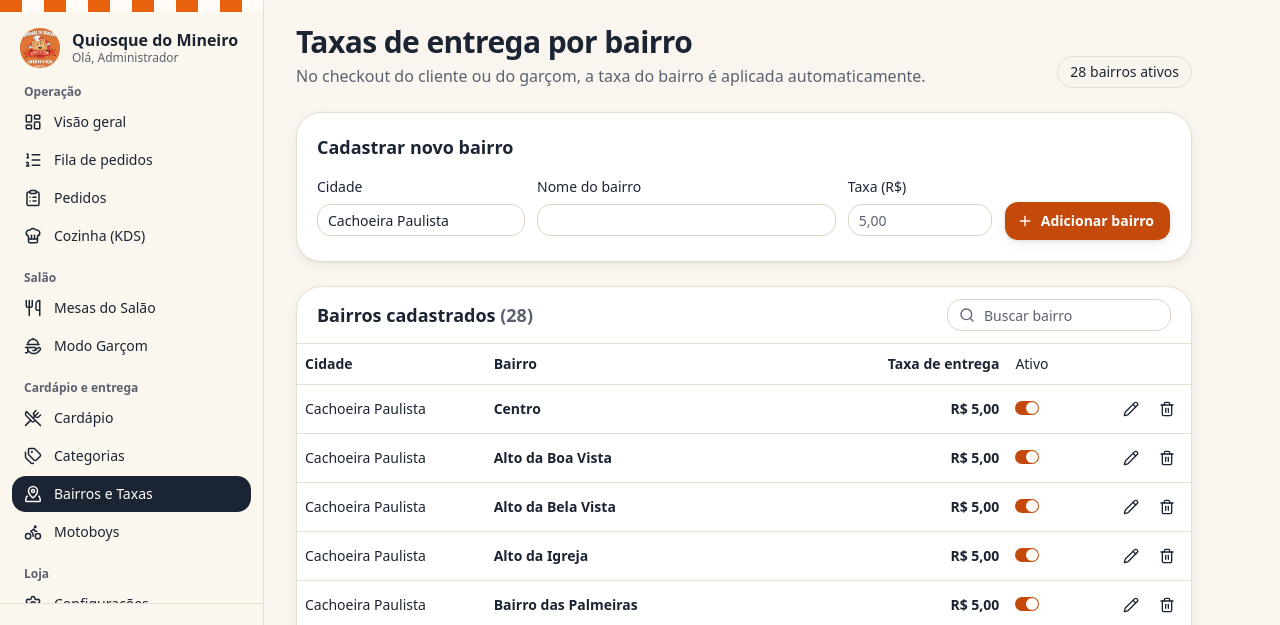
it: Bairros › mostra o erro de taxa inválida
In the field labelled "Nome do bairro": (686, 220) [537,204,836,236], type "Centro Novo"
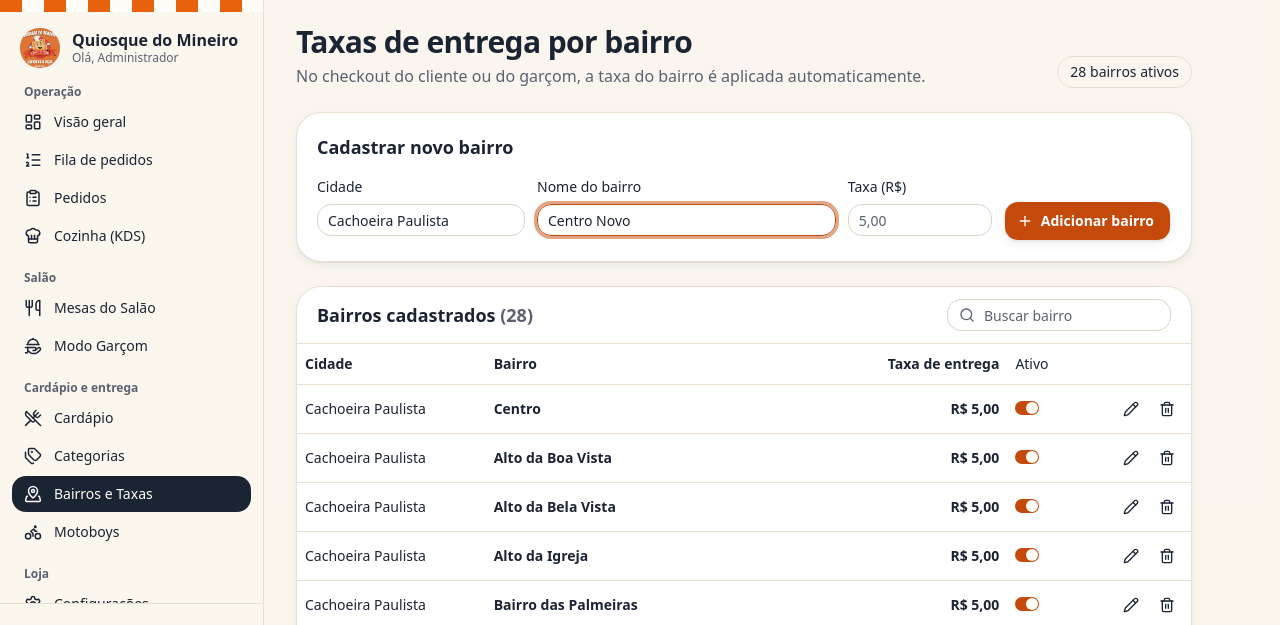
In the field labelled "Taxa (R$)": (920, 220) [848,204,992,236], type "xx"
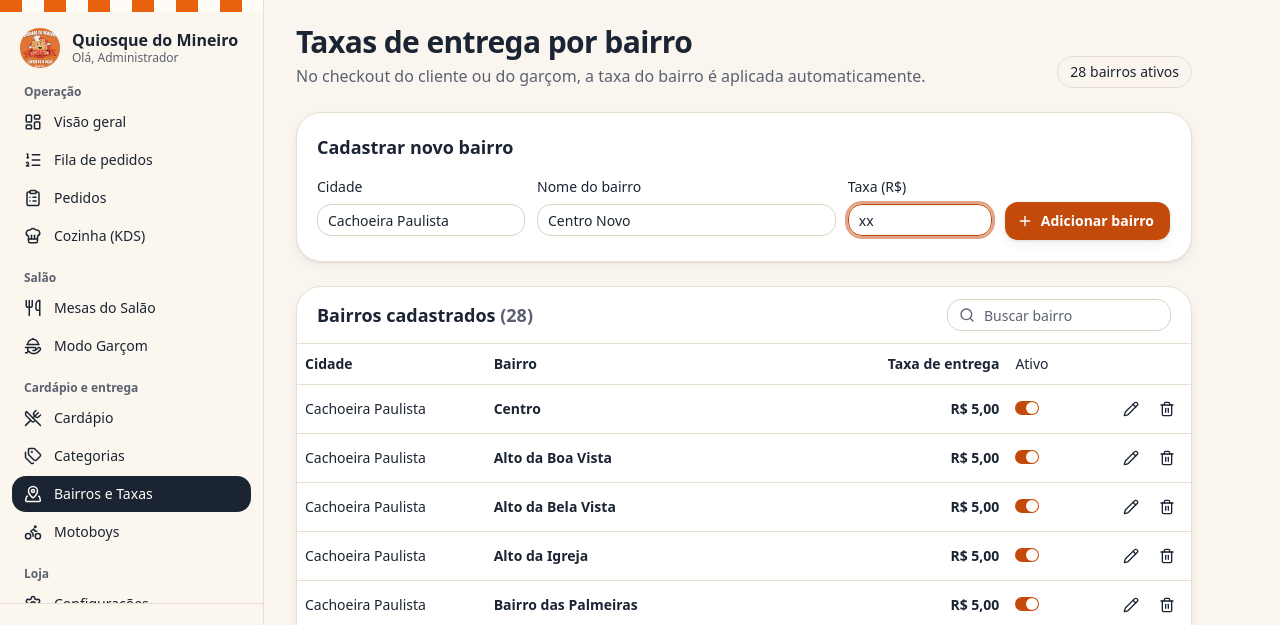
Click the button "Adicionar bairro": click(1087, 221) [1004,201,1171,241]
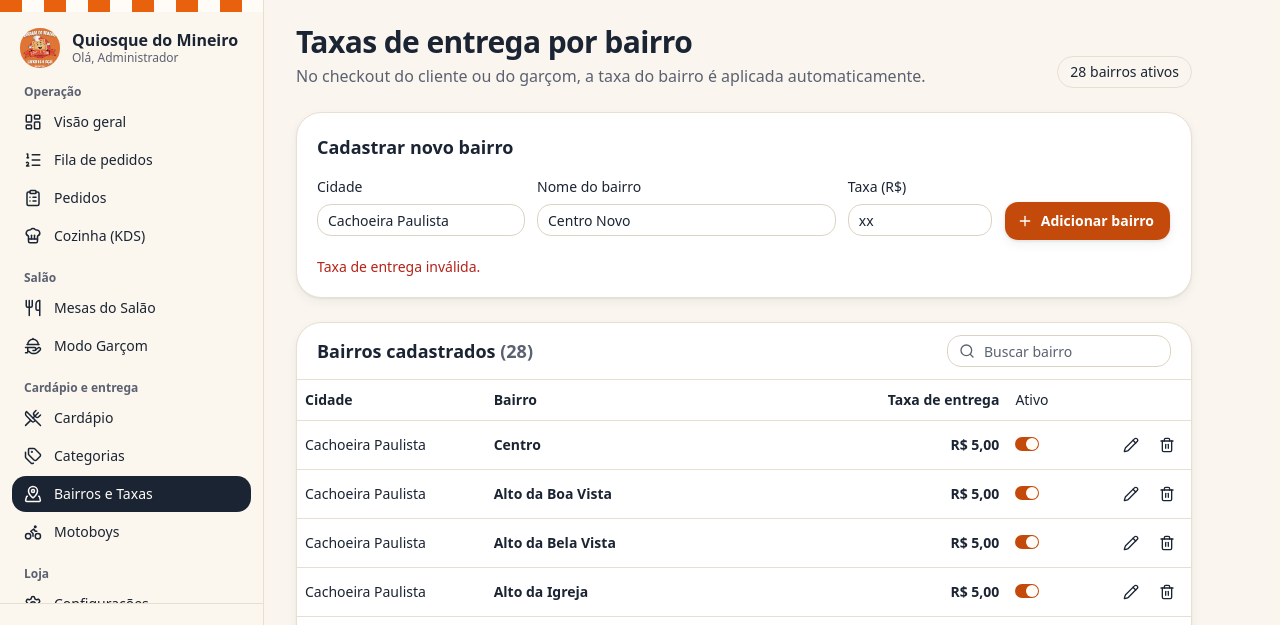
expect the message reads "Taxa de entrega inválida.": met, box [317,257,480,276]
